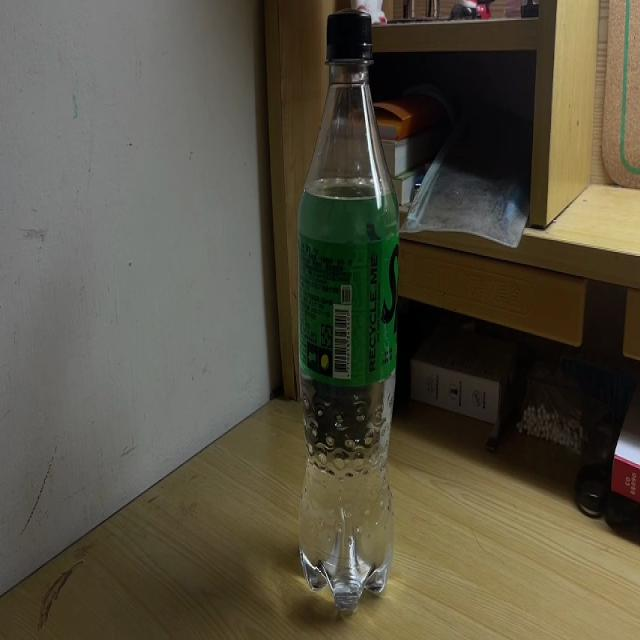Sprite: (299, 9, 400, 614)
